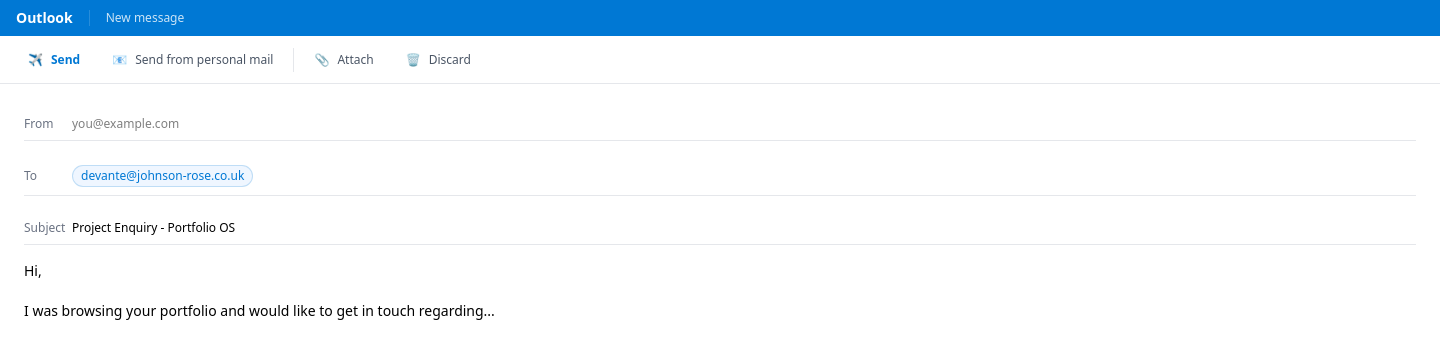
Outlook › posts the reply address and leaves the recipient to the server
Type "jo@example.com" into the field labelled "From" at (744,124), box [72,116,1416,132]
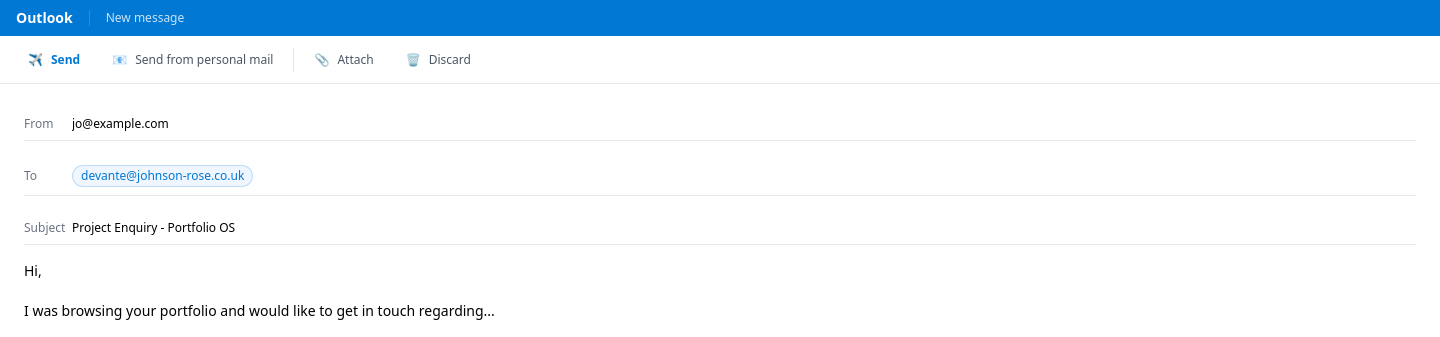
Click the button "✈️ Send" at (54,60), box [16,46,92,74]
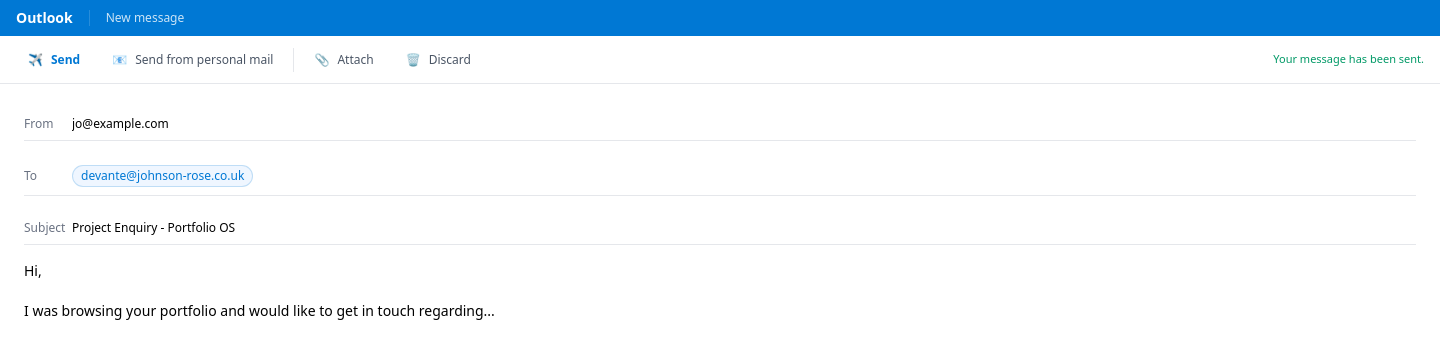
Result: the message reads "Your message has been sent." at [1273,51,1424,66]
